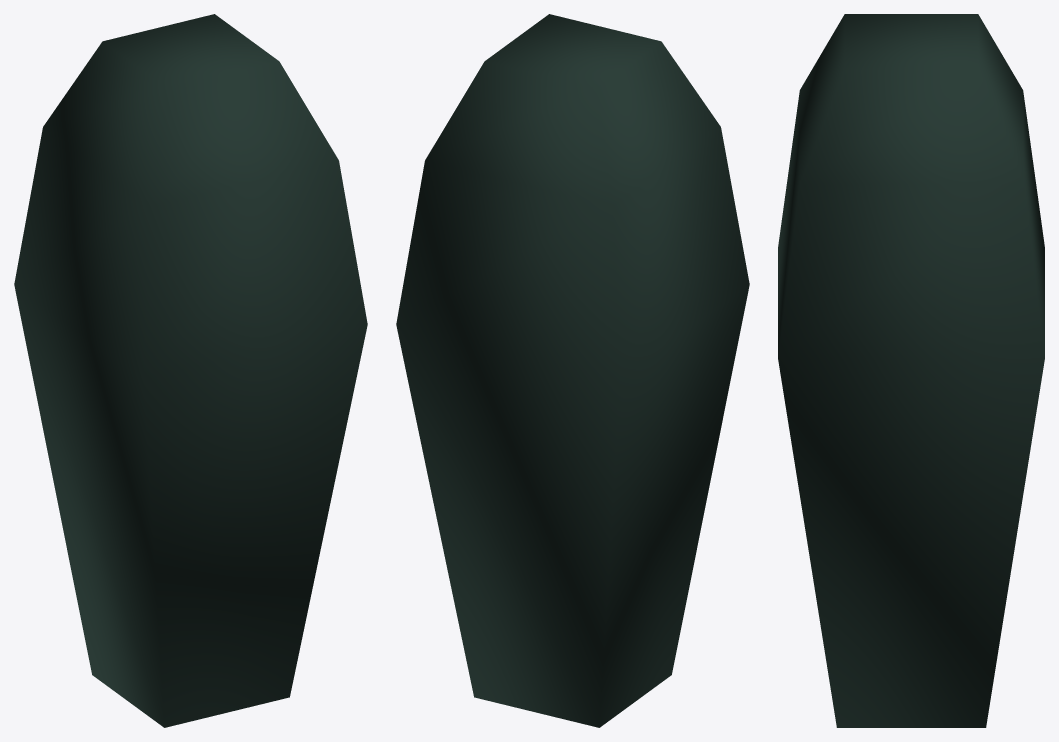
The model's file is carrot_sapling.fbx.
3 views of the same model, side by side, from view 1: azimuth 30°, elevation 25°; view 2: azimuth 150°, elevation 25°; view 3: azimuth 270°, elevation 25° (orthographic). The views are drawn at different scales.
Visible parts, largest first — view 1: carrot_sapling; view 2: carrot_sapling; view 3: carrot_sapling.
Boxes of the visible parts, box(x1,y1,x2,y2) form: carrot_sapling: box(14, 14, 367, 727); carrot_sapling: box(396, 14, 749, 727); carrot_sapling: box(778, 14, 1044, 727).
Size of the model in its own units: 23.26 by 23.26 by 62.94.
